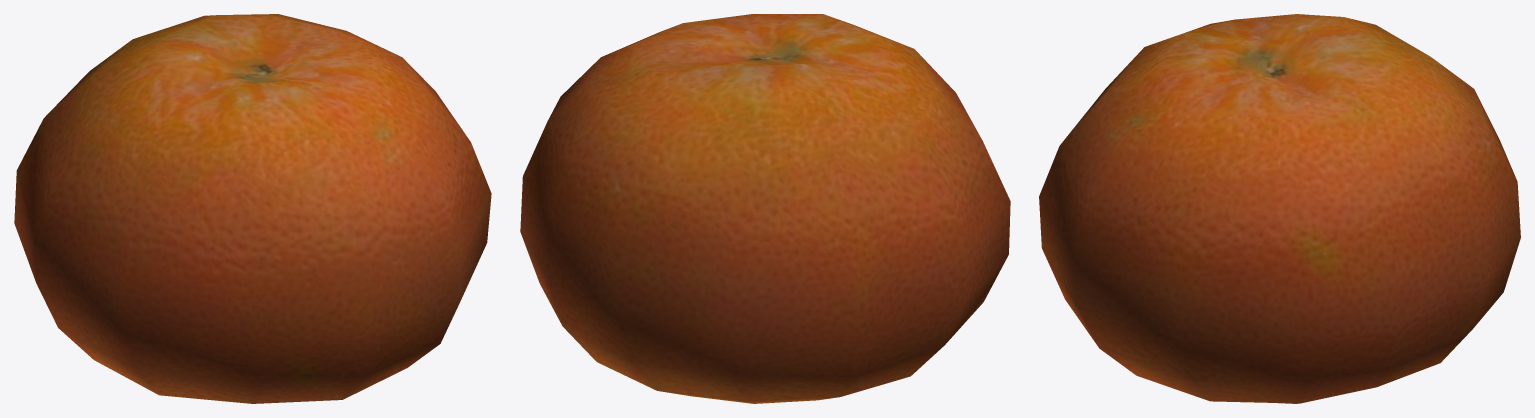
Rendered from A67_Orange_low.fbx.
3 views of the same model, side by side, from view 1: azimuth 30°, elevation 25°; view 2: azimuth 150°, elevation 25°; view 3: azimuth 270°, elevation 25° (orthographic). The views are drawn at different scales.
Visible parts, largest first — view 1: A67_Orange_low; view 2: A67_Orange_low; view 3: A67_Orange_low.
Part boxes in pixels (box(x1,y1,x2,y2)): A67_Orange_low: box(14, 14, 491, 403); A67_Orange_low: box(520, 14, 1010, 403); A67_Orange_low: box(1039, 14, 1520, 403).
Bounding box in the file's own units: 4.99 × 4.99 × 3.51.
1 material, 1 textured.
